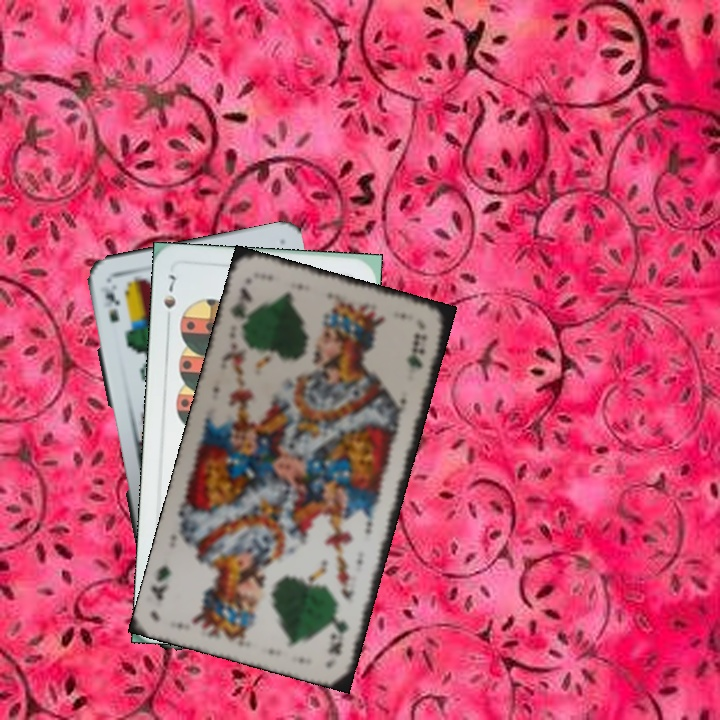EK: (99, 286, 122, 325)
GK: (324, 613, 351, 658), (226, 283, 254, 321)
S7: (159, 270, 179, 311)
